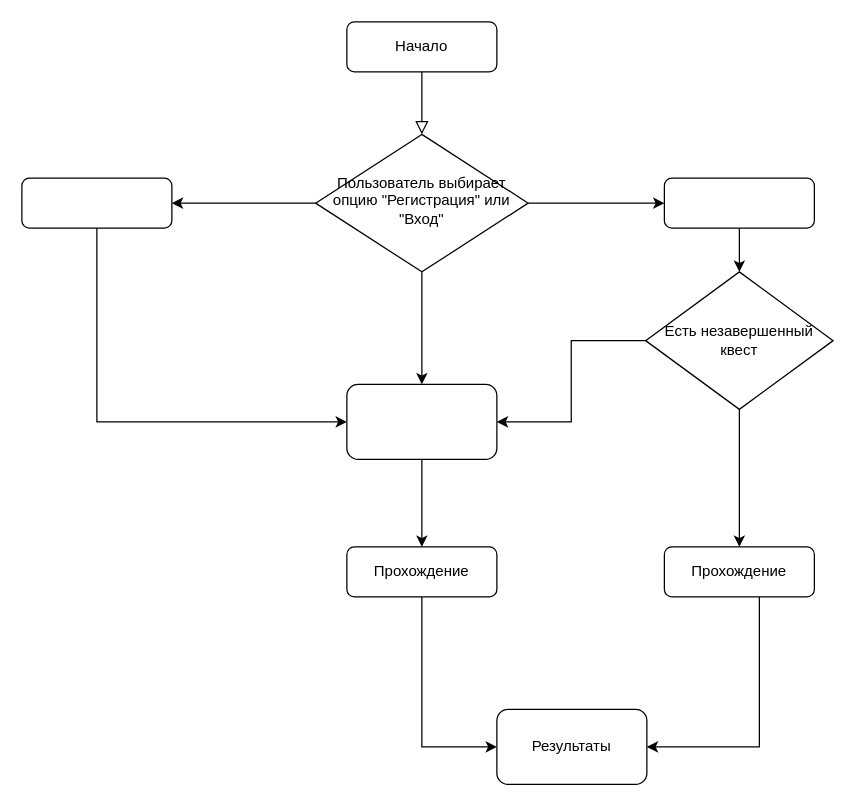
Some shapes in this 855 by 806 pixel diagram are drawn without their labels. Here are the shapes that lost their labels. From the top down, the centre of each, then its label:
(x=96, y=202): Регистрация
(x=738, y=202): Вход
(x=421, y=421): Новый квест
